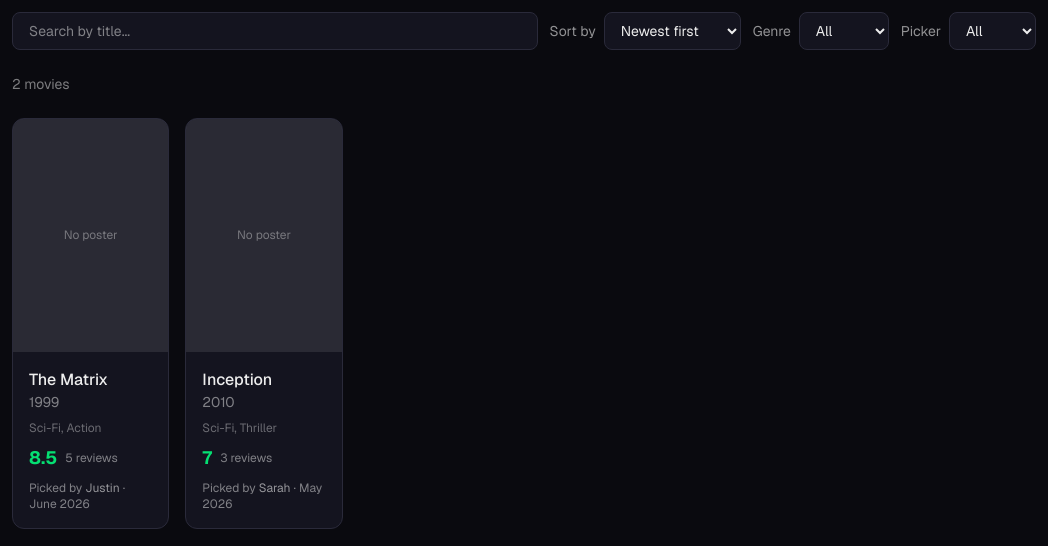
Test case: HistoryControls › filters by genre
This screenshot has width=1048, height=546.
Select "Thriller" in the dropdown labelled "Genre" at (844, 31), box [799,12,889,50]
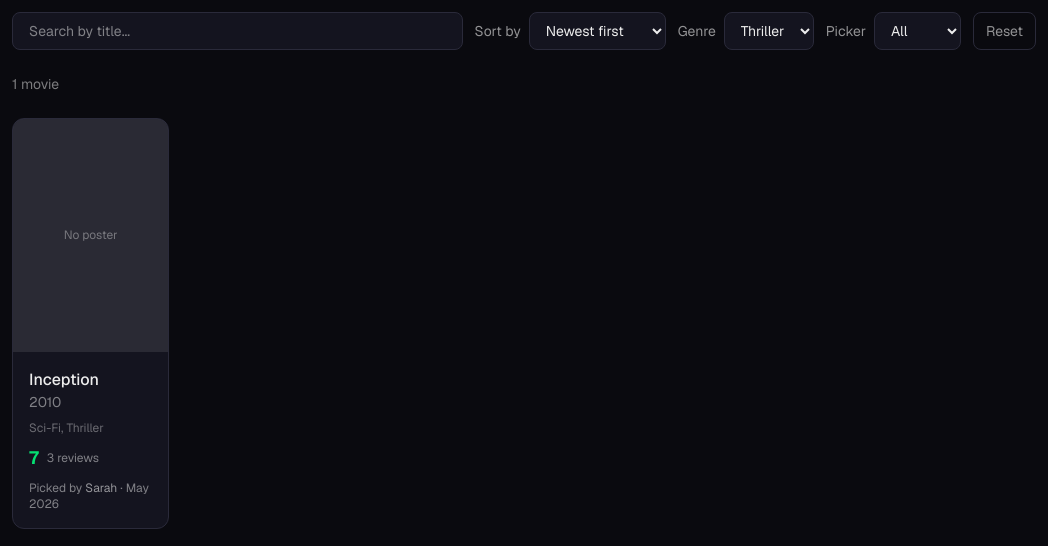
Expected: the heading "Inception" is shown, [29,369,99,390]
Expected: the link "The Matrix" is gone
